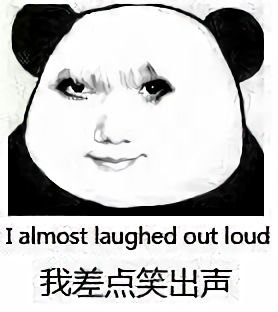dragon: (54, 65, 176, 172)
